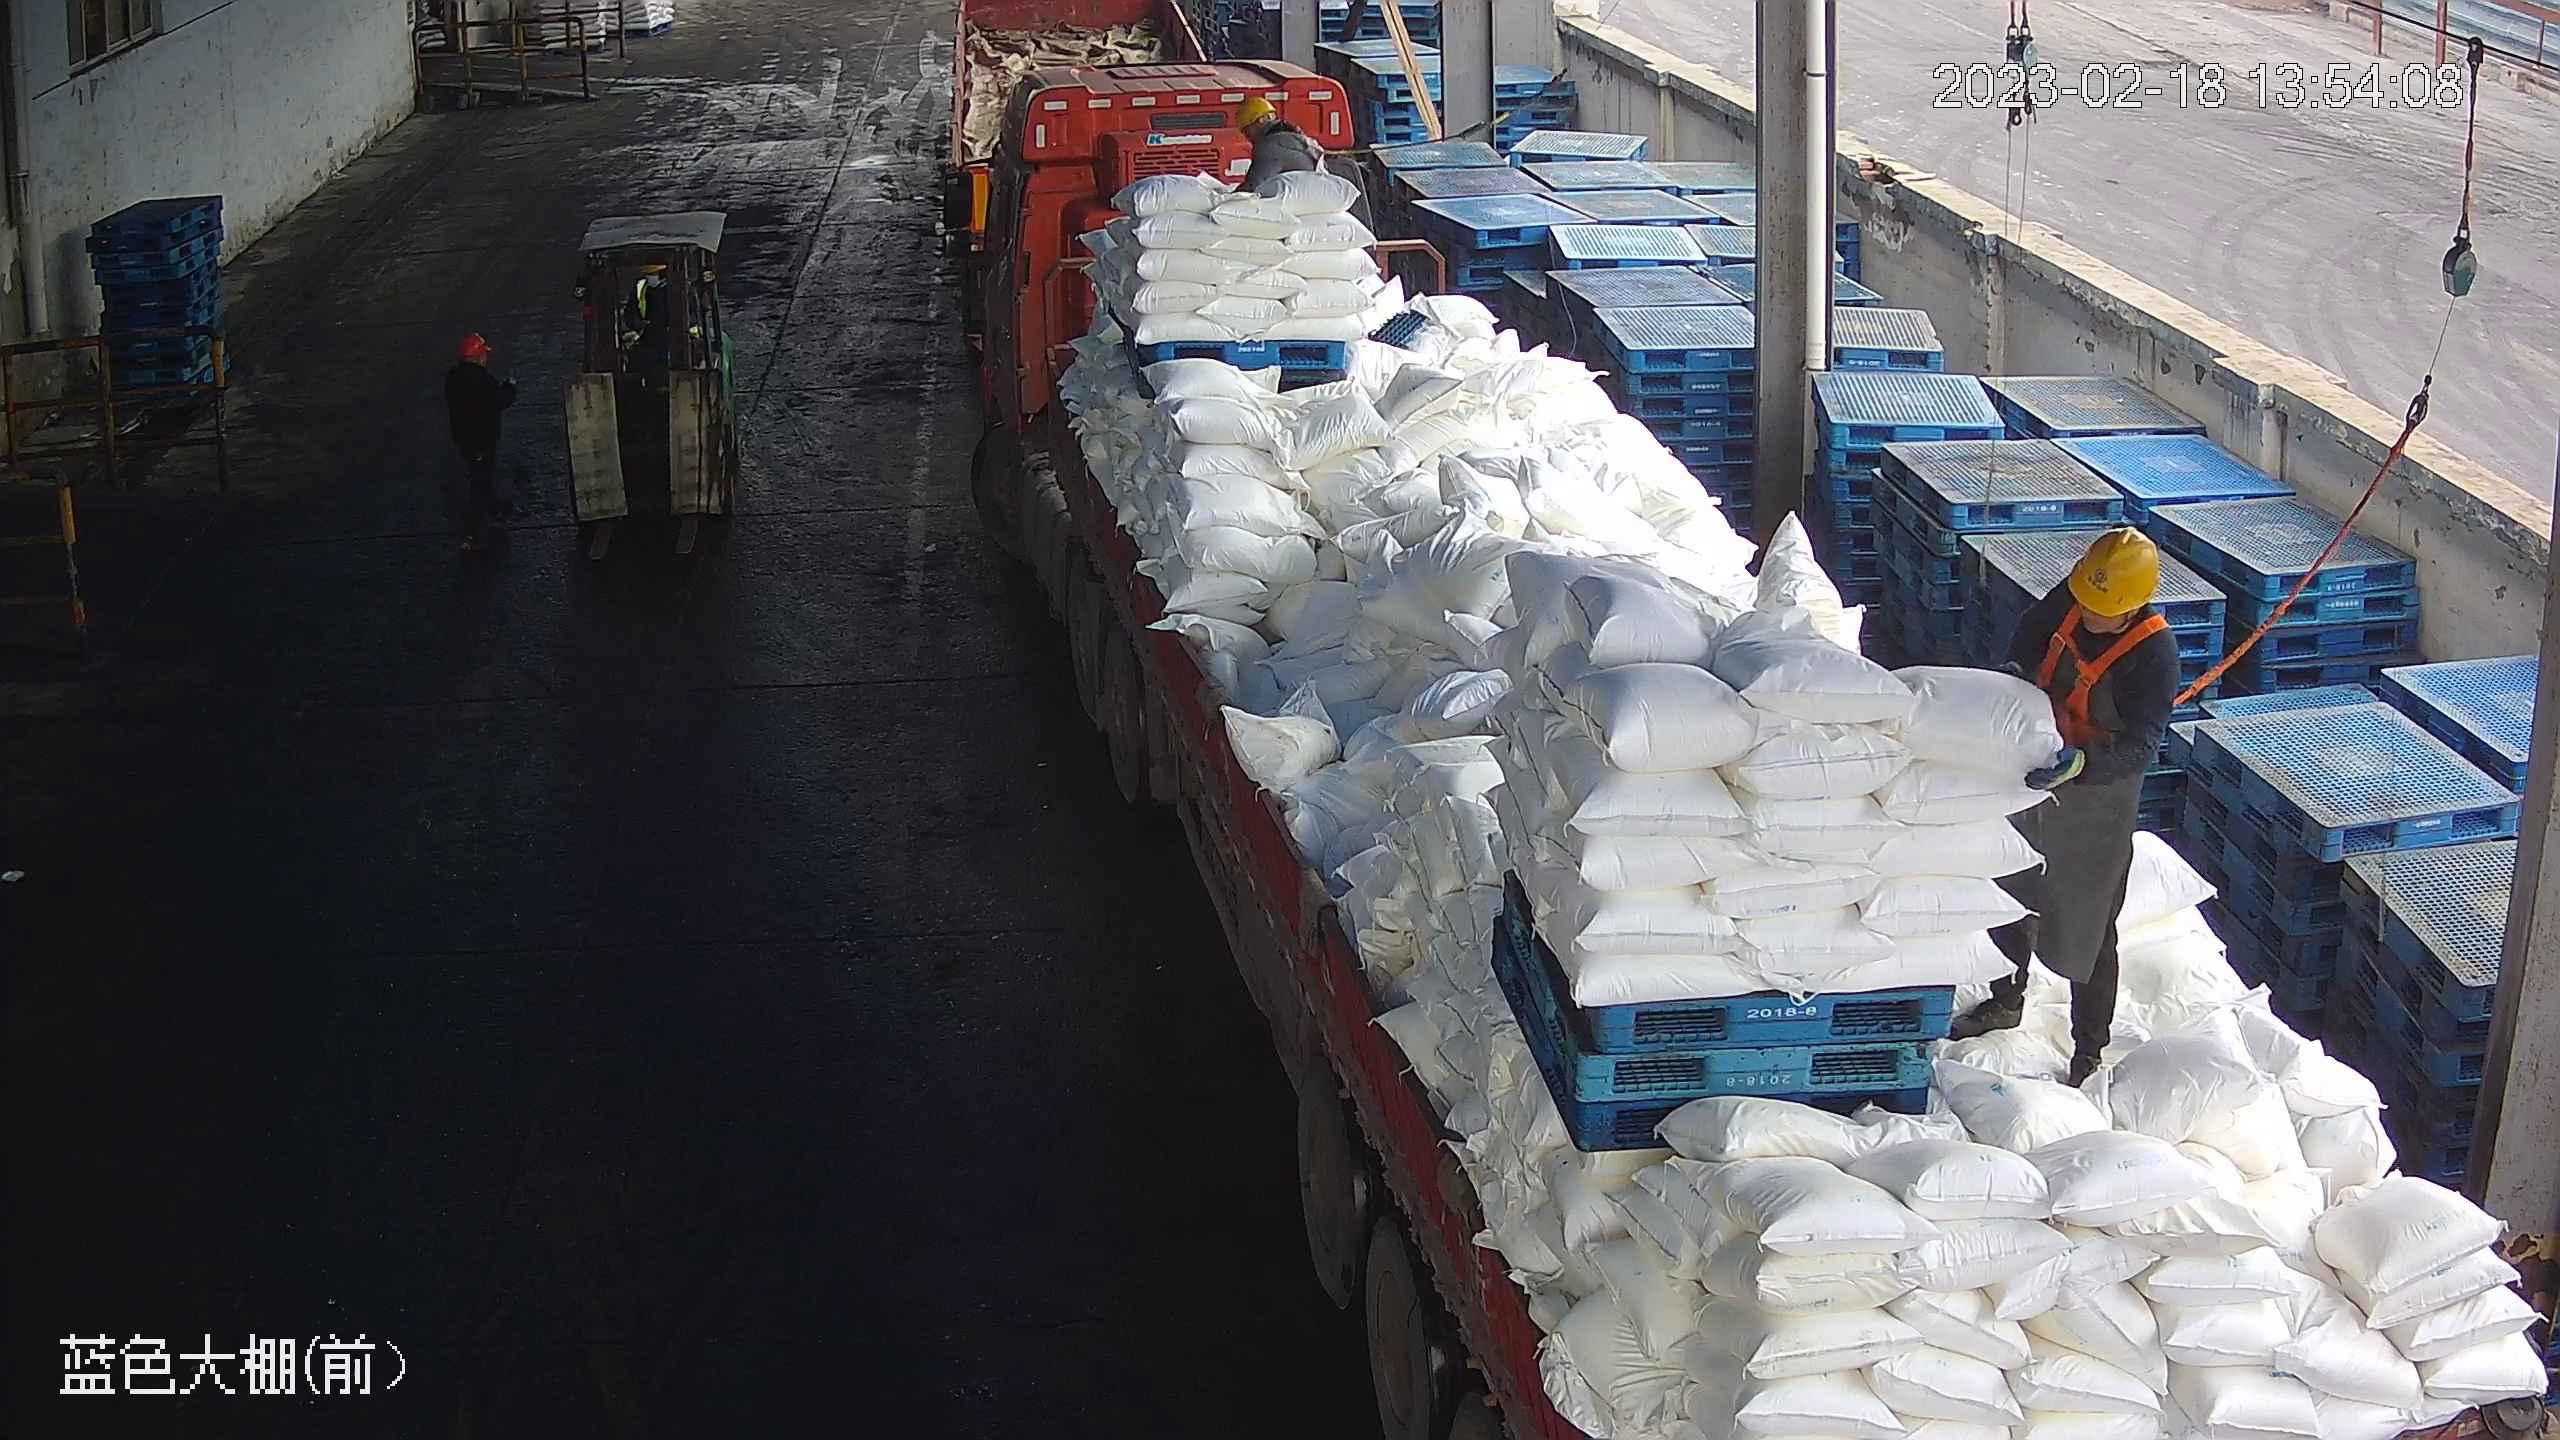belt: (2043, 610, 2182, 748), (1275, 119, 1326, 169)
head: (2030, 523, 2181, 683), (1233, 92, 1316, 156), (442, 329, 501, 390)
helmet: (2065, 523, 2162, 614), (1233, 92, 1274, 125), (456, 330, 487, 359)
people: (1965, 519, 2177, 1089), (441, 329, 518, 553)
truck: (951, 51, 2560, 1440)
